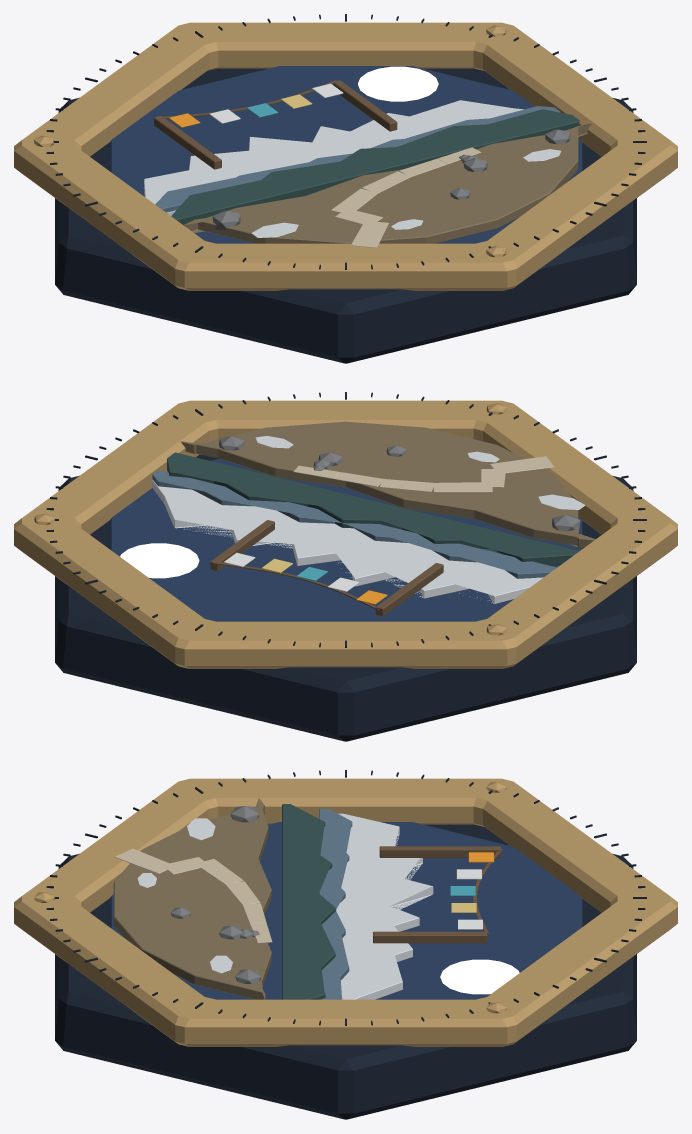
The model's file is trail_high.glb.
The picture shows the model from 3 angles, top to bottom: view 1: azimuth 30°, elevation 25°; view 2: azimuth 150°, elevation 25°; view 3: azimuth 270°, elevation 25°; orthographic projection.
Visible parts, largest first — view 1: BG_FrameRing, BG_BasePlate, BG_Field, TH_Plateau, TH_Ridge, TH_Peaks, TH_Trail, TH_PeakShade, TH_Sun, TH_FlagPoles, BG_TickScale, TH_SnowPatches (+2 smaller); view 2: BG_FrameRing, BG_BasePlate, TH_Plateau, BG_Field, TH_Peaks, TH_Ridge, TH_PeakShade, TH_Trail, TH_Sun, TH_FlagPoles, BG_TickScale, TH_SnowPatches (+2 smaller); view 3: BG_FrameRing, BG_BasePlate, BG_Field, TH_Plateau, TH_Peaks, TH_Ridge, TH_PeakShade, TH_FlagPoles, TH_Trail, TH_Sun, BG_TickScale, TH_SnowPatches (+2 smaller).
Boxes of the visible parts, <box> form: BG_FrameRing: <box>14,22,677,290</box>; BG_BasePlate: <box>55,68,636,363</box>; BG_Field: <box>109,66,582,243</box>; TH_Plateau: <box>183,123,591,243</box>; TH_Ridge: <box>171,109,579,224</box>; TH_Peaks: <box>144,100,523,215</box>; TH_Trail: <box>331,147,481,247</box>; TH_PeakShade: <box>155,106,560,212</box>; TH_Sun: <box>358,66,438,101</box>; TH_FlagPoles: <box>154,80,397,169</box>; BG_TickScale: <box>46,14,646,269</box>; TH_SnowPatches: <box>251,149,561,237</box>; BG_FrameRing: <box>14,400,677,668</box>; BG_BasePlate: <box>55,454,636,741</box>; TH_Plateau: <box>180,421,595,547</box>; BG_Field: <box>109,458,582,621</box>; TH_Peaks: <box>152,479,543,604</box>; TH_Ridge: <box>167,452,579,565</box>; TH_PeakShade: <box>152,470,556,578</box>; TH_Trail: <box>293,456,554,492</box>; TH_Sun: <box>120,543,199,578</box>; TH_FlagPoles: <box>210,520,443,616</box>; BG_TickScale: <box>46,392,646,647</box>; TH_SnowPatches: <box>255,436,585,509</box>; BG_FrameRing: <box>14,778,677,1046</box>; BG_BasePlate: <box>55,824,636,1119</box>; BG_Field: <box>109,822,582,999</box>; TH_Plateau: <box>113,798,271,999</box>; TH_Peaks: <box>336,813,433,999</box>; TH_Ridge: <box>282,804,335,999</box>; TH_PeakShade: <box>319,809,352,999</box>; TH_FlagPoles: <box>373,846,500,943</box>; TH_Trail: <box>115,848,272,943</box>; TH_Sun: <box>440,959,519,994</box>; BG_TickScale: <box>46,770,646,1025</box>; TH_SnowPatches: <box>137,818,232,973</box>.
Bounding box in the file's own units: 0.0393 × 0.0061 × 0.0394.
